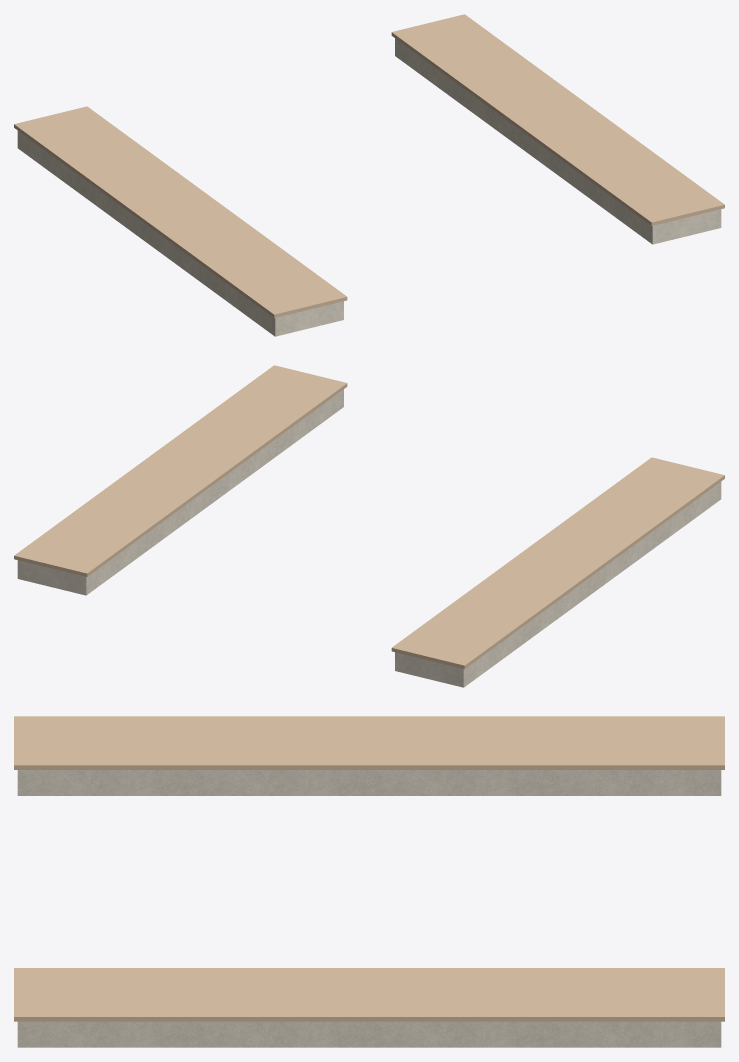
The model's file is stair_core_slab.glb.
3 renders of one model, top to bottom at view 1: azimuth 30°, elevation 25°; view 2: azimuth 150°, elevation 25°; view 3: azimuth 270°, elevation 25°, orthographic. The views are drawn at different scales.
Parts seen in each view (by area): view 1: stair_core_slab_floor, stair_core_slab_plaster; view 2: stair_core_slab_floor, stair_core_slab_plaster; view 3: stair_core_slab_floor, stair_core_slab_plaster.
Boxes of the visible parts, x1,y1,x2,y2 form: stair_core_slab_floor: (14,14,724,318); stair_core_slab_plaster: (17,38,721,336); stair_core_slab_floor: (14,365,724,669); stair_core_slab_plaster: (17,389,721,687); stair_core_slab_floor: (14,716,724,1021); stair_core_slab_plaster: (17,770,721,1047).
Size of the model in its own units: 4 by 0.2 by 4.
2 materials, 1 textured.
